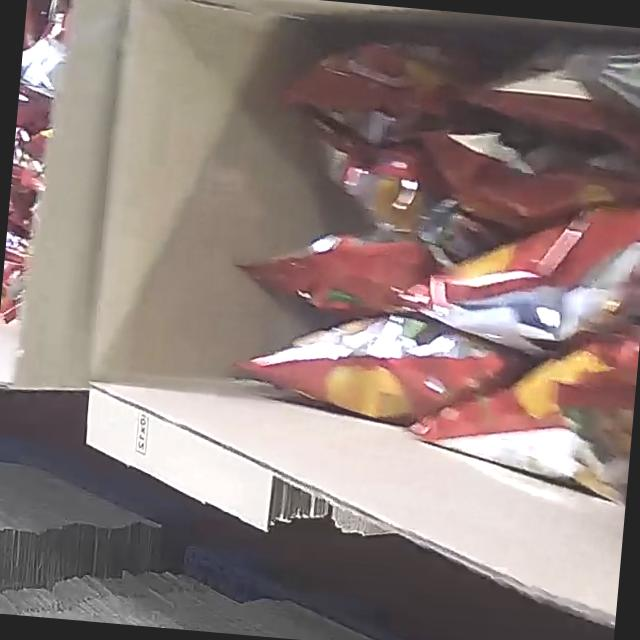masala: (207, 0, 640, 556), (0, 0, 76, 326)
